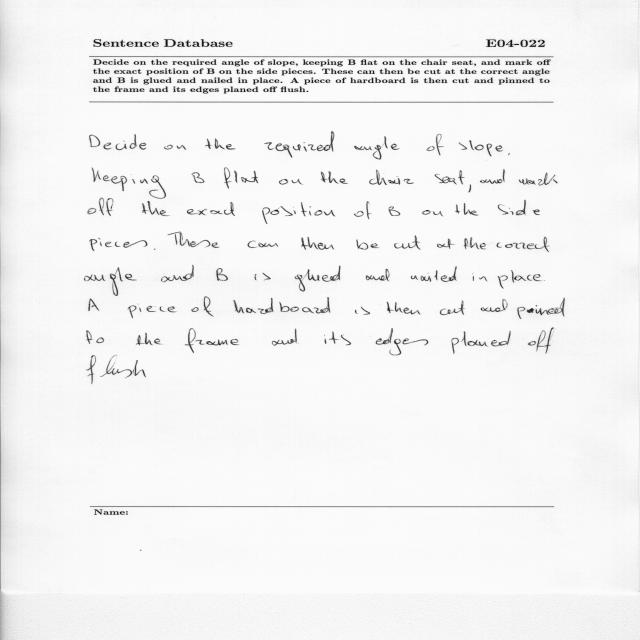word: (92, 168, 166, 199), (264, 131, 334, 158), (234, 297, 331, 314), (262, 202, 335, 224), (84, 267, 137, 296), (376, 328, 428, 355), (87, 356, 135, 385), (451, 331, 511, 354), (185, 328, 239, 353), (295, 266, 341, 292), (354, 136, 399, 160), (517, 298, 565, 319), (90, 134, 147, 150), (498, 270, 545, 289), (168, 232, 219, 248), (497, 237, 550, 252), (90, 238, 147, 251), (411, 266, 457, 282), (224, 168, 258, 189), (459, 141, 503, 157), (528, 328, 554, 354), (369, 170, 414, 185), (187, 202, 235, 216), (128, 306, 177, 319), (498, 200, 540, 215), (161, 265, 194, 282), (519, 173, 557, 186), (435, 170, 465, 185), (88, 198, 113, 216), (301, 237, 334, 250), (387, 302, 420, 315), (272, 329, 297, 346), (192, 297, 214, 316), (142, 201, 169, 216), (394, 235, 421, 250), (480, 169, 505, 184), (427, 134, 444, 155), (321, 171, 348, 184), (481, 299, 508, 312), (324, 332, 351, 345), (440, 301, 465, 315), (136, 333, 162, 346), (205, 139, 235, 150), (354, 201, 372, 219), (456, 203, 479, 216), (366, 269, 390, 281), (464, 238, 486, 250), (356, 239, 379, 250), (248, 240, 278, 248), (87, 330, 104, 344), (134, 360, 146, 378), (437, 239, 454, 249), (216, 268, 228, 281), (192, 172, 205, 183), (89, 298, 99, 311), (422, 210, 443, 216), (279, 179, 303, 184), (355, 307, 370, 315), (254, 273, 271, 280), (164, 145, 186, 150), (389, 207, 401, 216), (473, 276, 487, 281), (468, 185, 471, 193), (508, 153, 510, 155), (154, 249, 155, 250), (544, 280, 545, 281)
